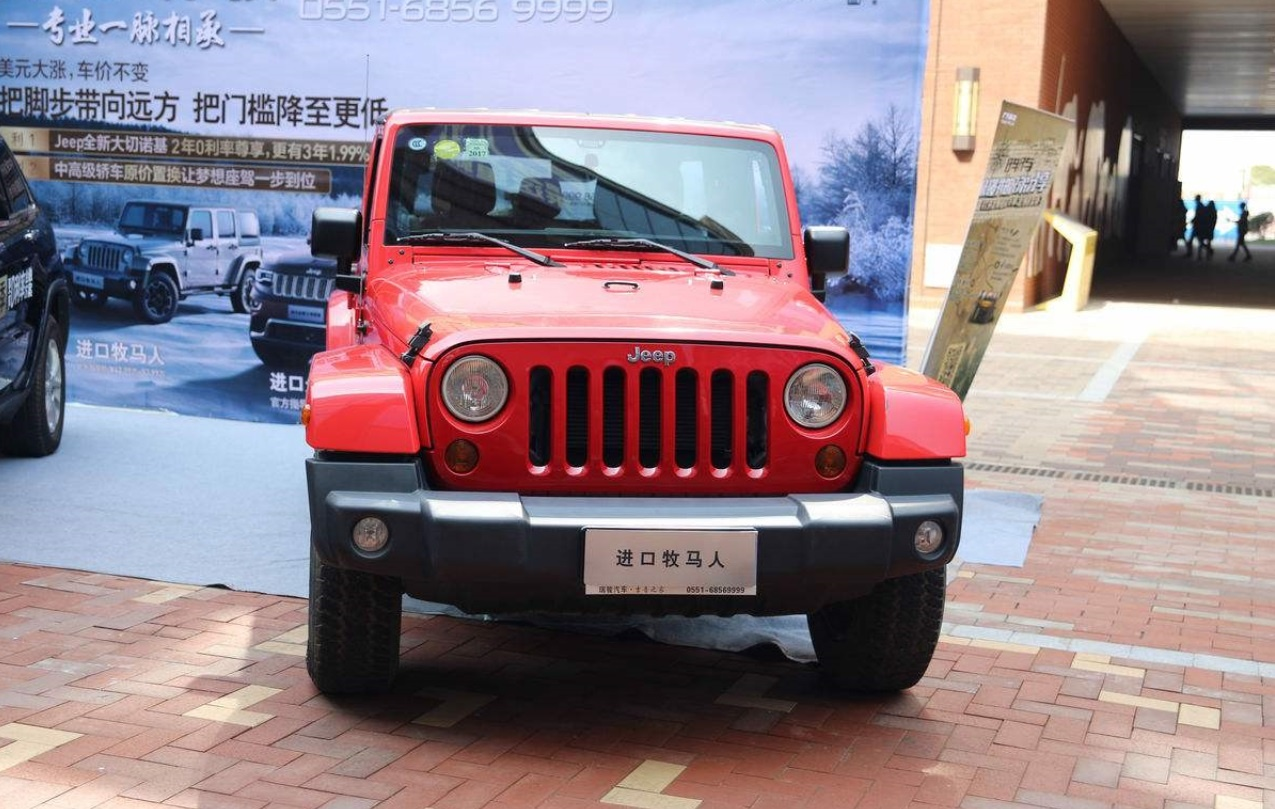jeep: (304, 106, 972, 705)
